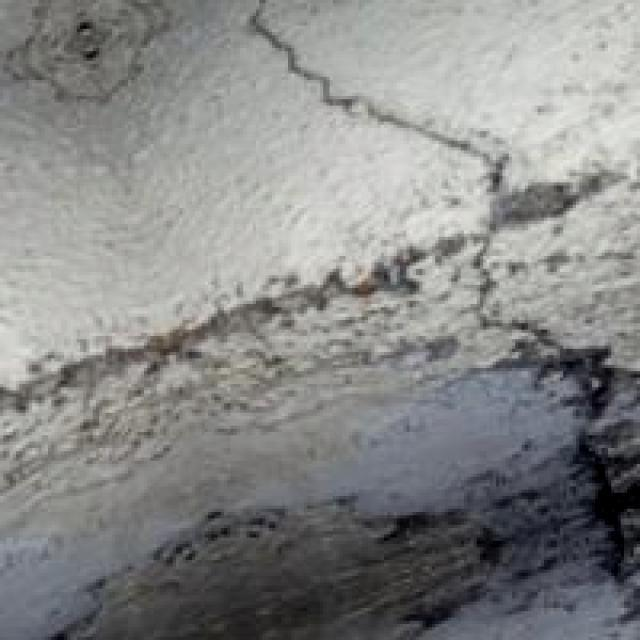crack: (228, 0, 640, 576)
